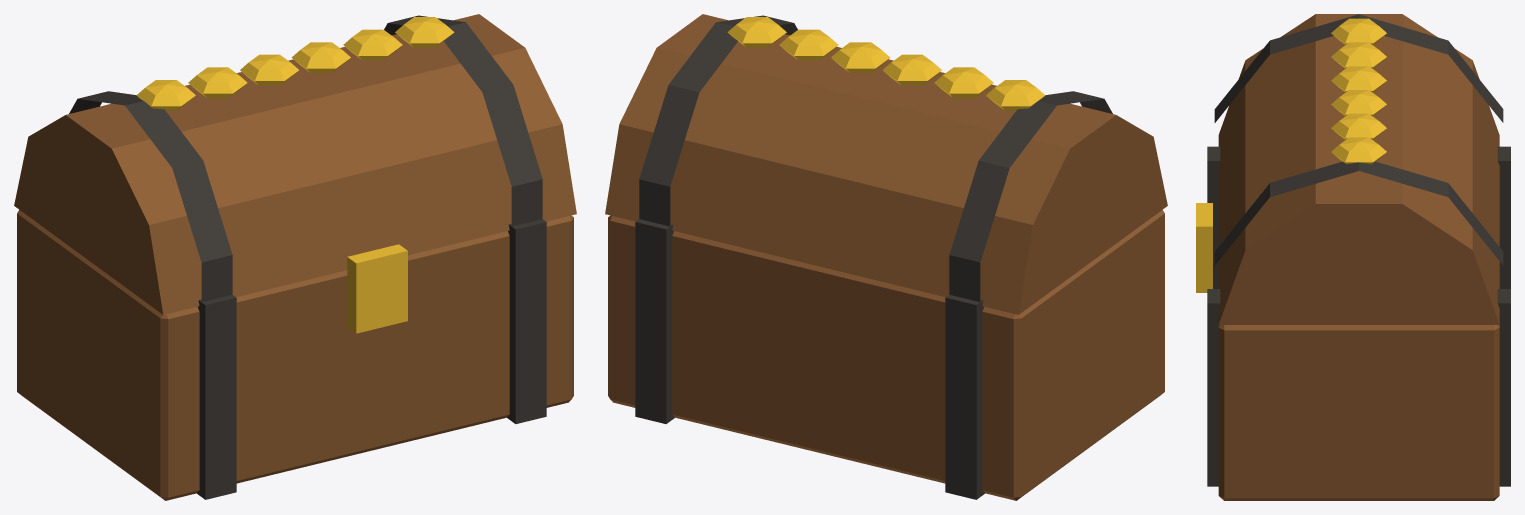
The model's file is Prop_TreasureChest.fbx.
3 renders of one model, left to right at view 1: azimuth 30°, elevation 25°; view 2: azimuth 150°, elevation 25°; view 3: azimuth 270°, elevation 25°, orthographic. The views are drawn at different scales.
Parts seen in each view (by area): view 1: Prop_TreasureChest.001; view 2: Prop_TreasureChest.001; view 3: Prop_TreasureChest.001.
Part boxes in pixels (x1,y1,x2,y2): Prop_TreasureChest.001: [14, 14, 576, 500]; Prop_TreasureChest.001: [605, 14, 1167, 500]; Prop_TreasureChest.001: [1196, 14, 1510, 500].
Size of the model in its own units: 0.8 by 0.64 by 0.56.
